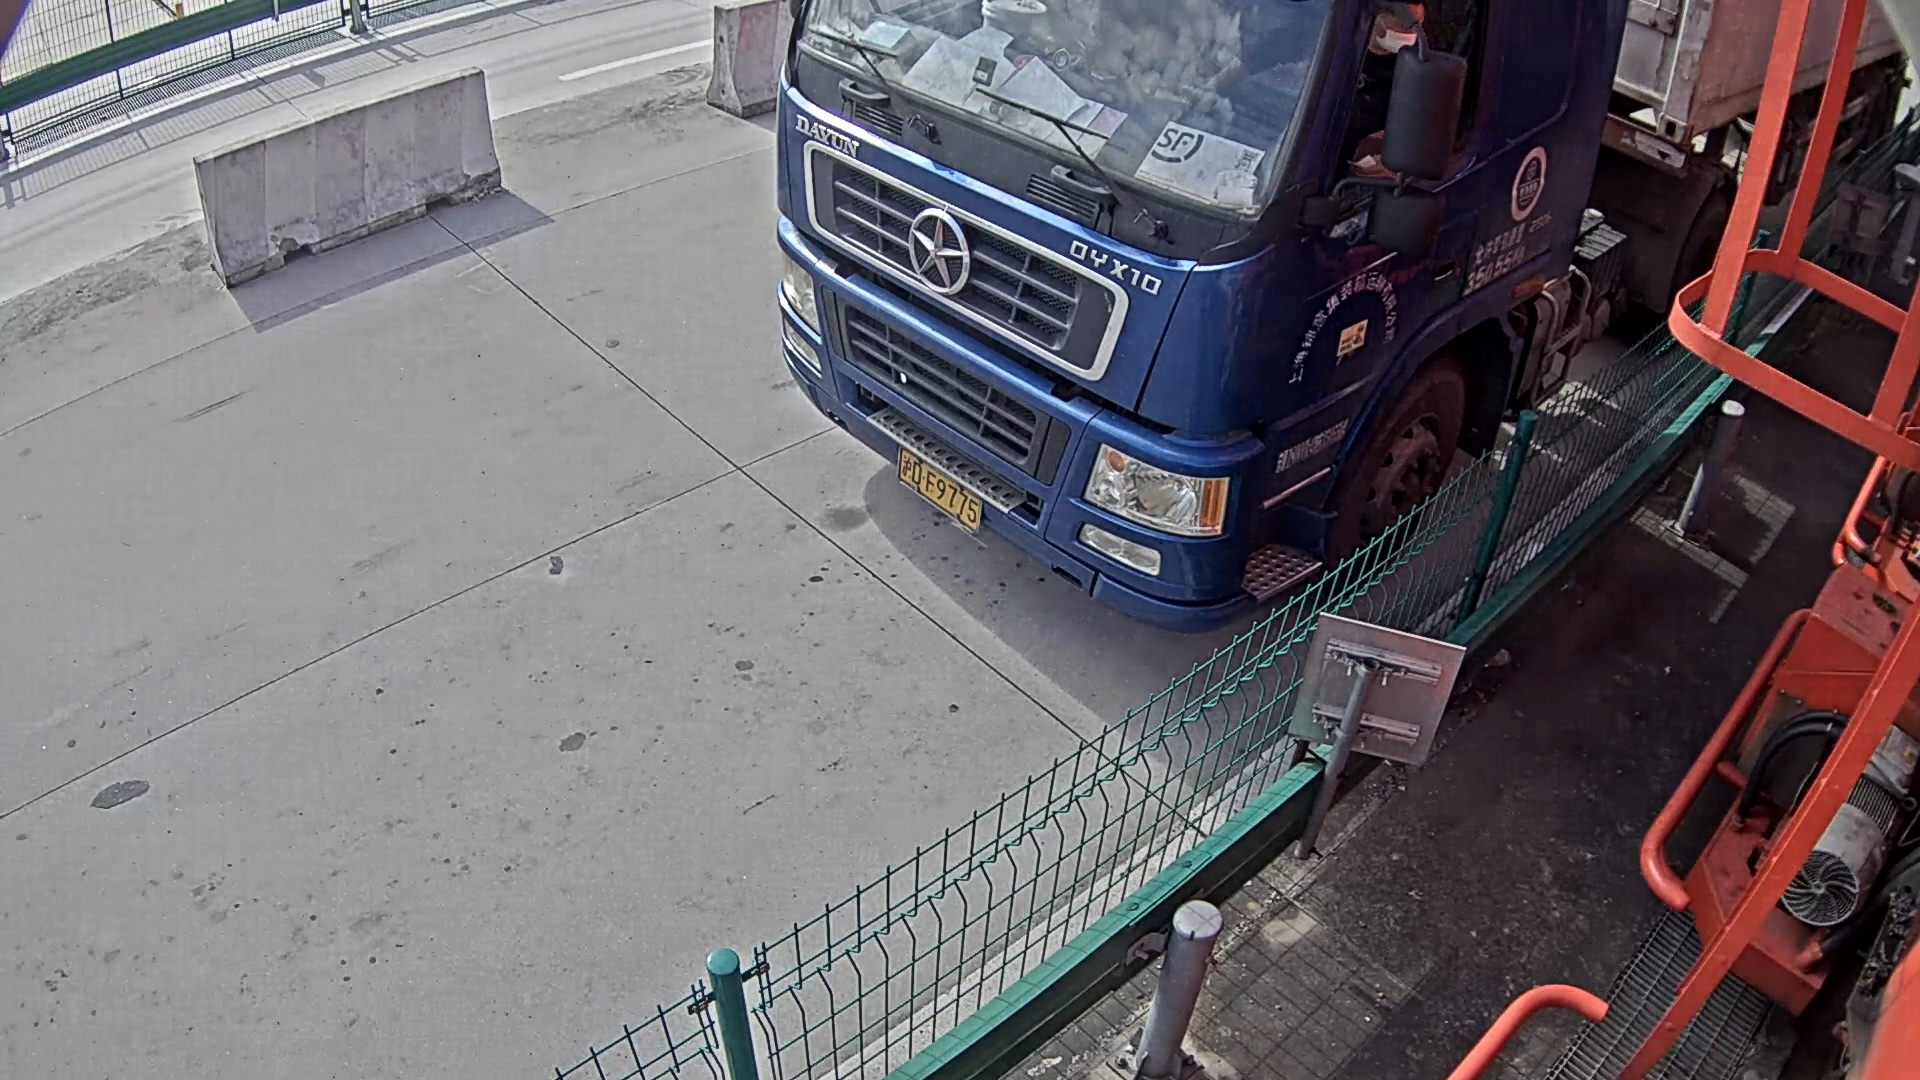head: (771, 1, 1600, 622)
plate: (901, 440, 986, 533)
